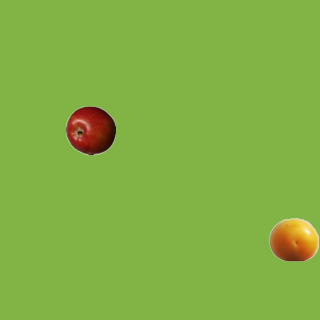Apple Braeburn: (65, 105, 115, 155)
Cherry Wax Yellow: (268, 214, 318, 264)
